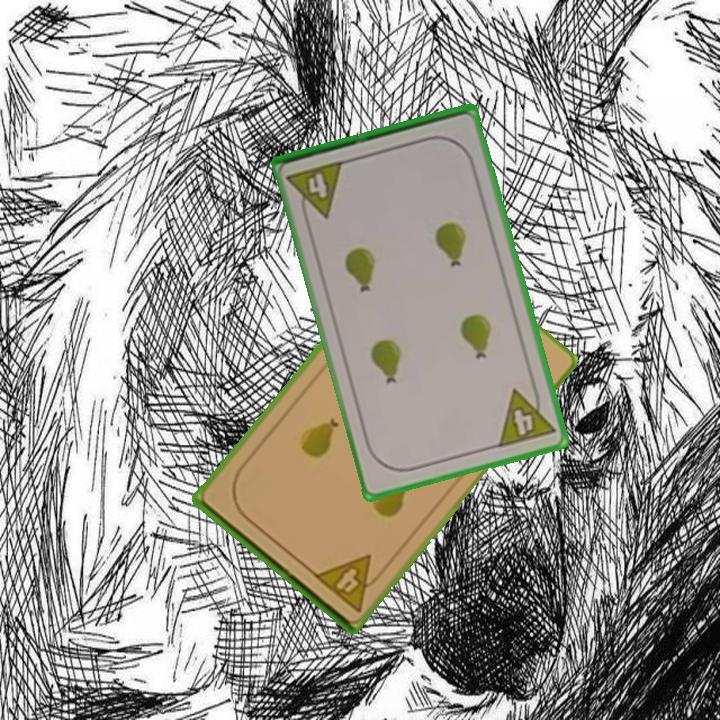4p: (310, 550, 388, 615), (494, 380, 558, 451), (283, 157, 347, 225)
